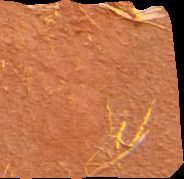soil: (1, 1, 184, 178)
